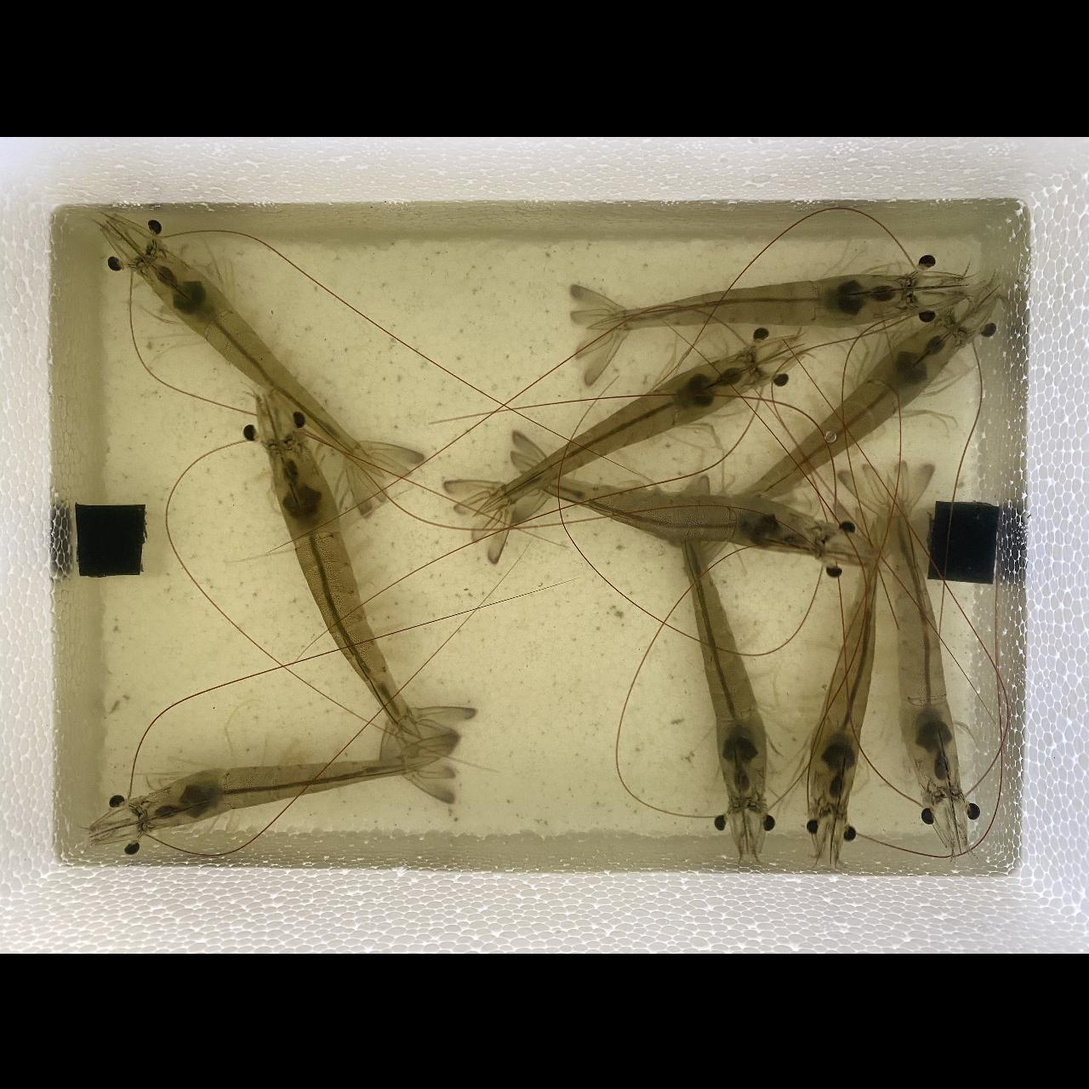box: (929, 501, 1001, 583), (75, 504, 146, 576)
top_shrimp: (714, 317, 966, 536), (141, 250, 384, 477), (474, 352, 758, 515), (270, 441, 422, 739), (673, 489, 766, 804), (513, 471, 830, 556), (887, 473, 959, 799), (138, 756, 441, 829), (809, 524, 878, 815), (589, 273, 914, 329)
